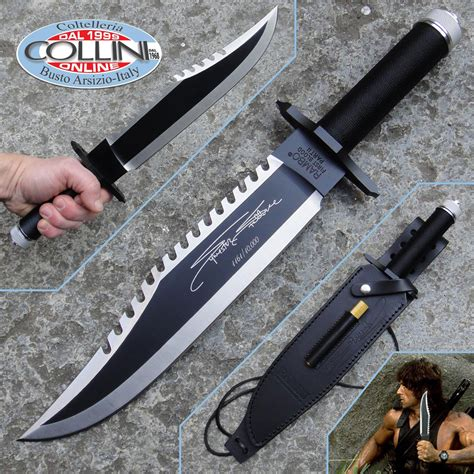knife: (17, 10, 461, 442), (12, 5, 279, 252), (387, 202, 458, 279), (417, 391, 436, 447)
